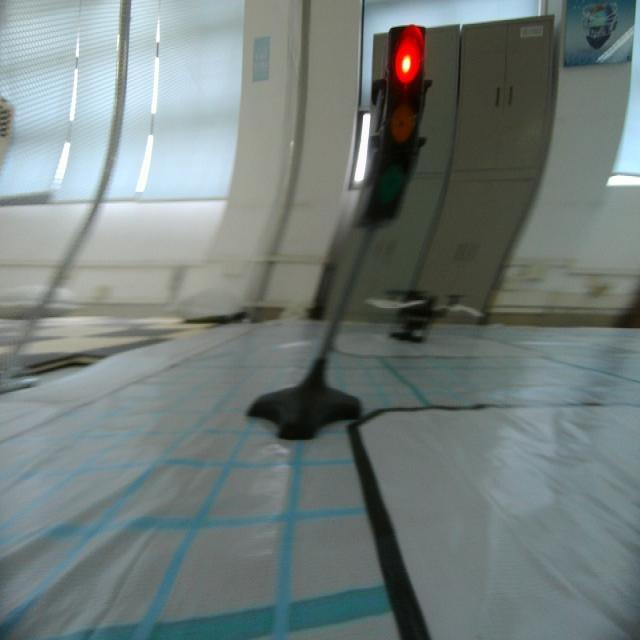red: (376, 24, 430, 227)
